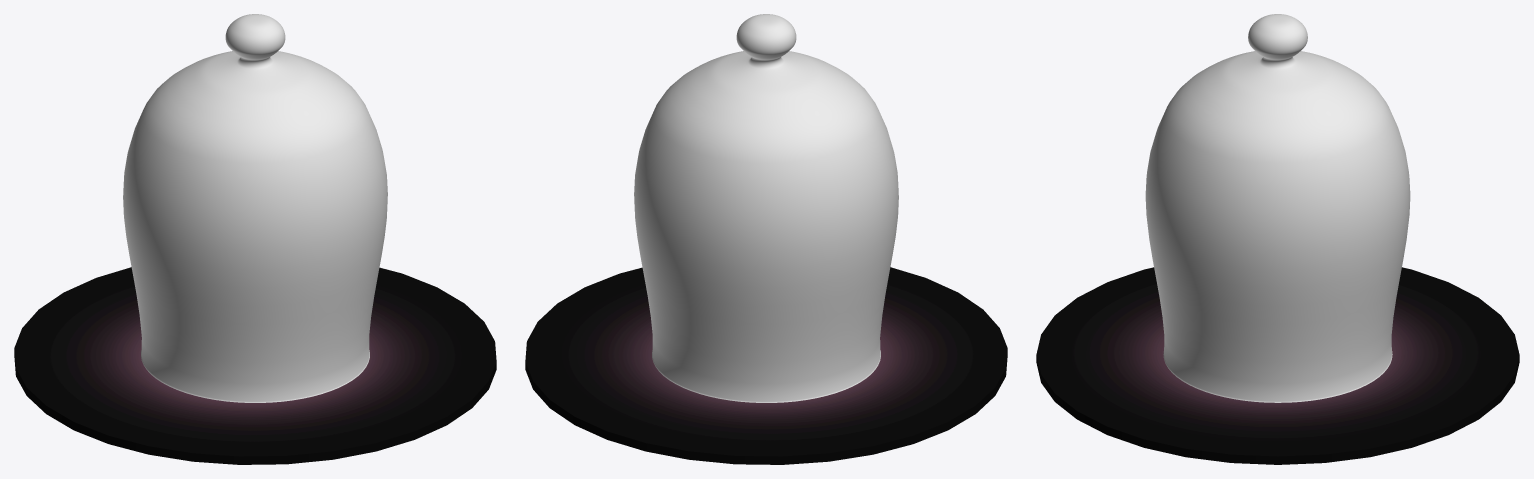
Rendered from Rose.fbx.
3 views of the same model, side by side, from view 1: azimuth 30°, elevation 25°; view 2: azimuth 150°, elevation 25°; view 3: azimuth 270°, elevation 25° (orthographic).
Visible parts, largest first — view 1: BezierCurve.001, Cylinder; view 2: BezierCurve.001, Cylinder; view 3: BezierCurve.001, Cylinder.
Boxes of the visible parts, x1,y1,x2,y2 form: BezierCurve.001: [123, 14, 387, 402]; Cylinder: [14, 267, 496, 464]; BezierCurve.001: [634, 14, 898, 402]; Cylinder: [525, 267, 1007, 464]; BezierCurve.001: [1145, 14, 1410, 402]; Cylinder: [1036, 267, 1519, 464].
Size of the model in its own units: 327 by 257 by 327.
